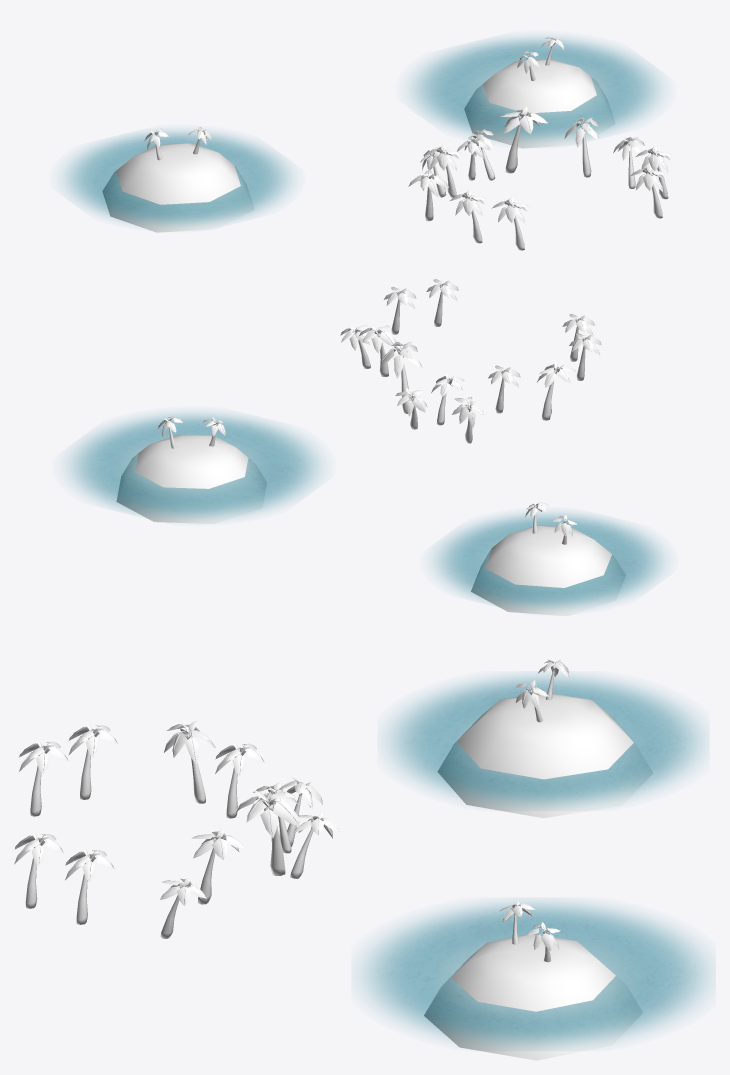
File: featunlocked_track.glb
The picture shows the model from 3 angles, top to bottom: view 1: azimuth 30°, elevation 25°; view 2: azimuth 150°, elevation 25°; view 3: azimuth 270°, elevation 25°; orthographic projection. The views are drawn at different scales.
Parts seen in each view (by area): view 1: islandwater.png__, sand2.jpg__, palmtree3.jpg__; view 2: islandwater.png__, sand2.jpg__, palmtree3.jpg__; view 3: islandwater.png__, sand2.jpg__, palmtree3.jpg__.
Boxes of the visible parts, left/top/right/bottom form: islandwater.png__: left=63, top=36, right=661, bottom=226; sand2.jpg__: left=102, top=59, right=615, bottom=232; palmtree3.jpg__: left=144, top=37, right=671, bottom=250; islandwater.png__: left=67, top=413, right=664, bottom=609; sand2.jpg__: left=116, top=434, right=625, bottom=616; palmtree3.jpg__: left=157, top=279, right=601, bottom=544; islandwater.png__: left=361, top=674, right=709, bottom=1047; sand2.jpg__: left=424, top=692, right=652, bottom=1060; palmtree3.jpg__: left=14, top=659, right=569, bottom=962.
Size of the model in its own units: 213 by 37.02 by 163.
Materials: 3 (1 with a texture image).
